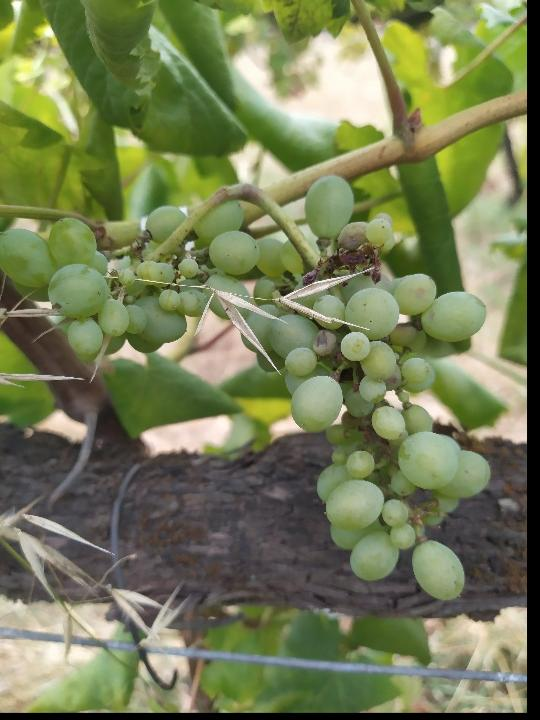grape: (0, 174, 499, 600)
